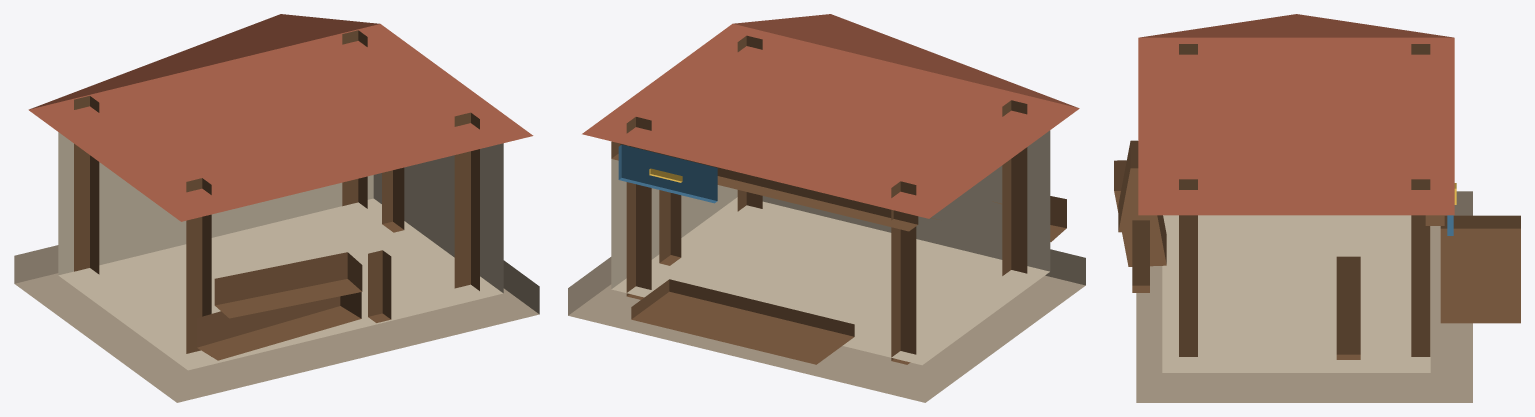
Rendered from LumberCamp_authoring.glb.
3 views of the same model, side by side, from view 1: azimuth 30°, elevation 25°; view 2: azimuth 150°, elevation 25°; view 3: azimuth 270°, elevation 25° (orthographic). The views are drawn at different scales.
Parts seen in each view (by area): view 1: LumberCamp_authoring; view 2: LumberCamp_authoring; view 3: LumberCamp_authoring.
Part boxes in pixels (x1,y1,x2,y2): LumberCamp_authoring: (14, 14, 539, 402); LumberCamp_authoring: (568, 14, 1085, 402); LumberCamp_authoring: (1114, 14, 1520, 402).
Size of the model in its own units: 5.4 by 4.1 by 5.08.
